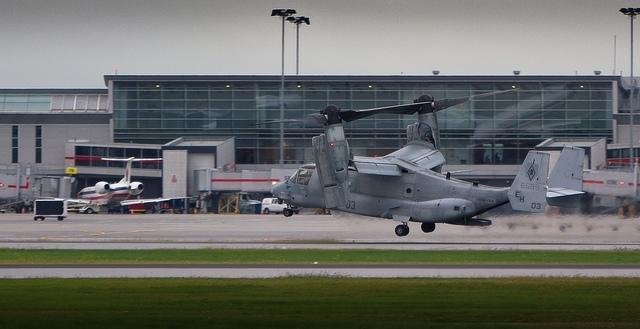truck: (220, 190, 260, 214), (258, 198, 299, 216)
